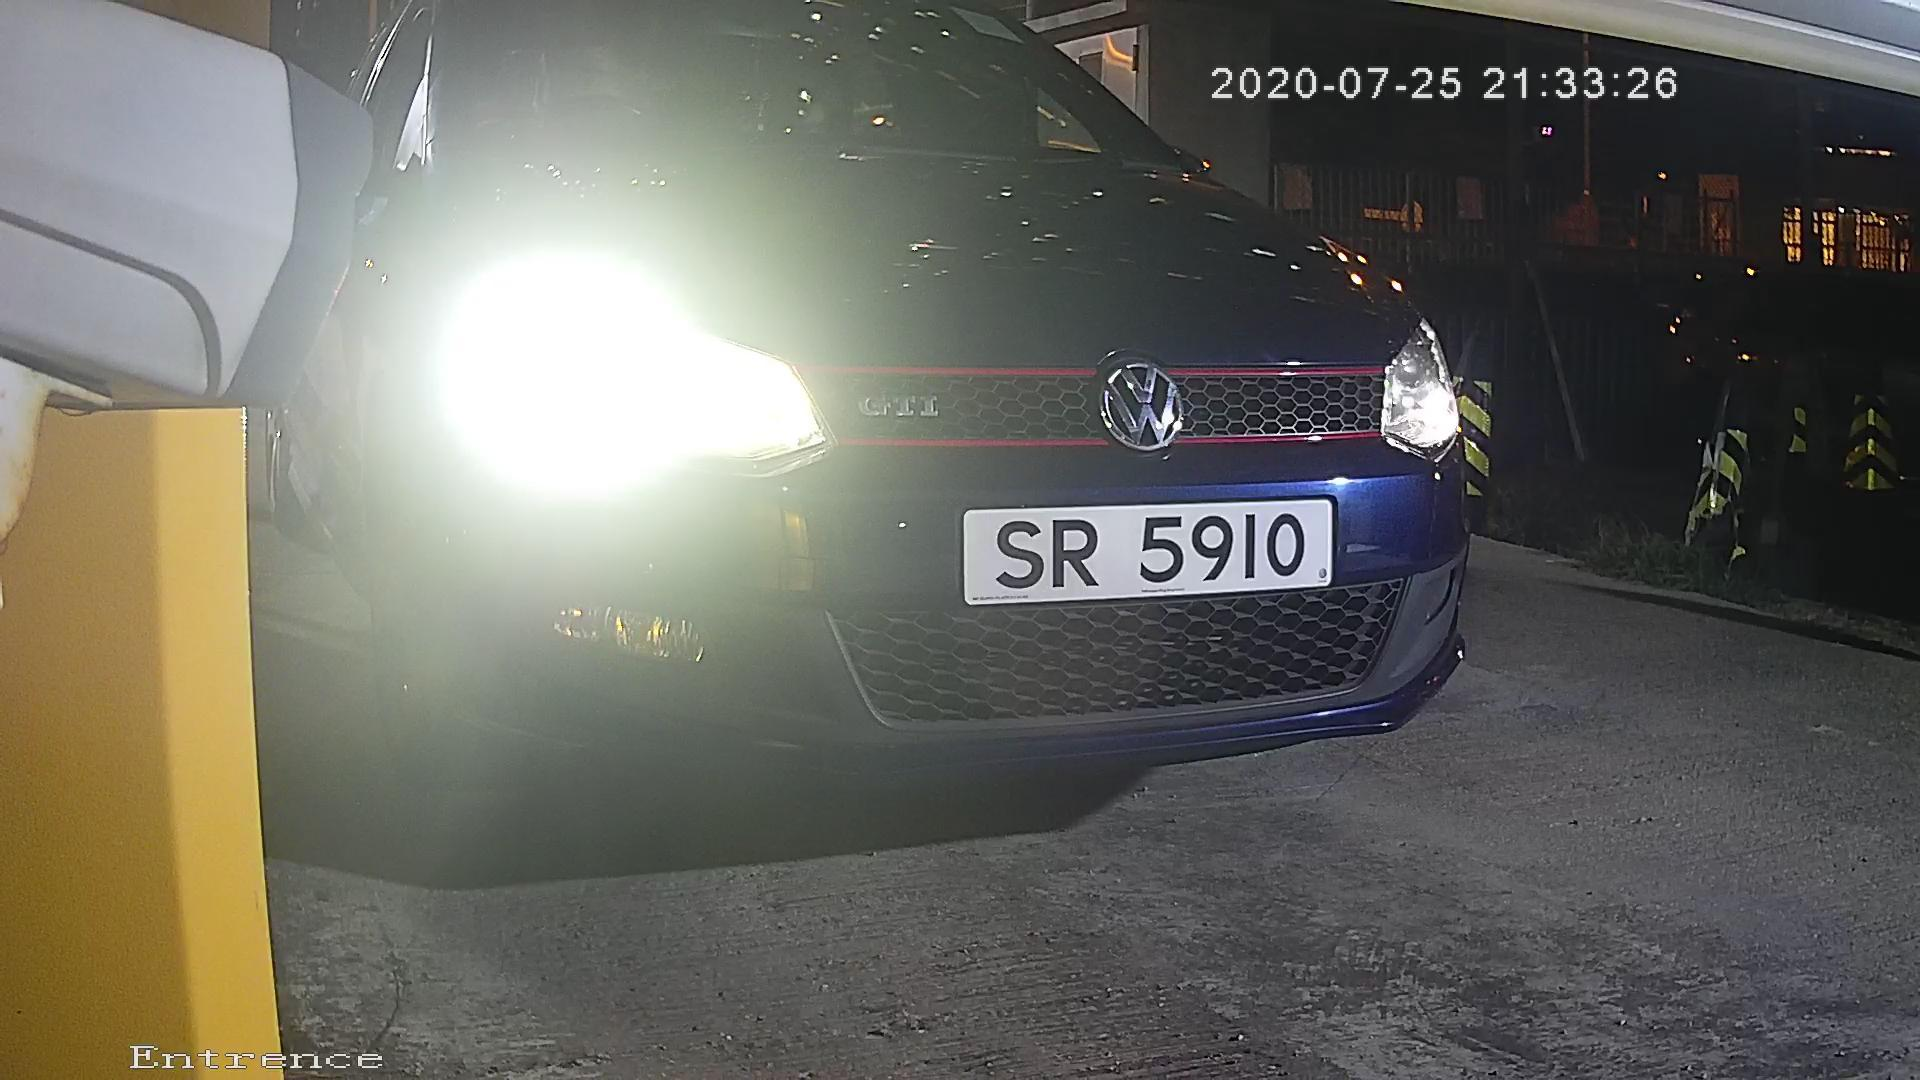privatecar: (369, 15, 1586, 800)
